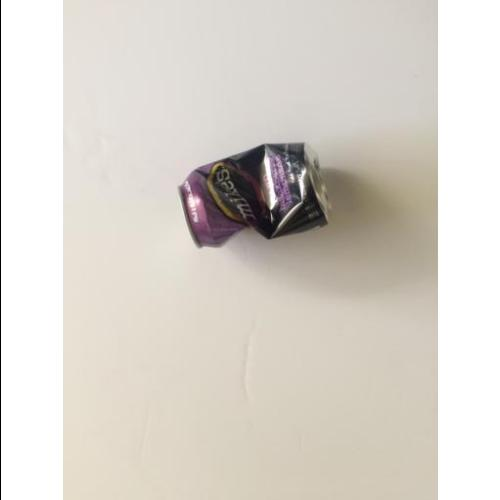metal: (179, 144, 330, 250)
